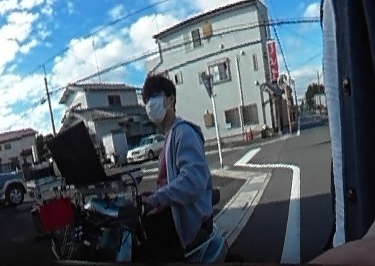person: (119, 74, 213, 256)
